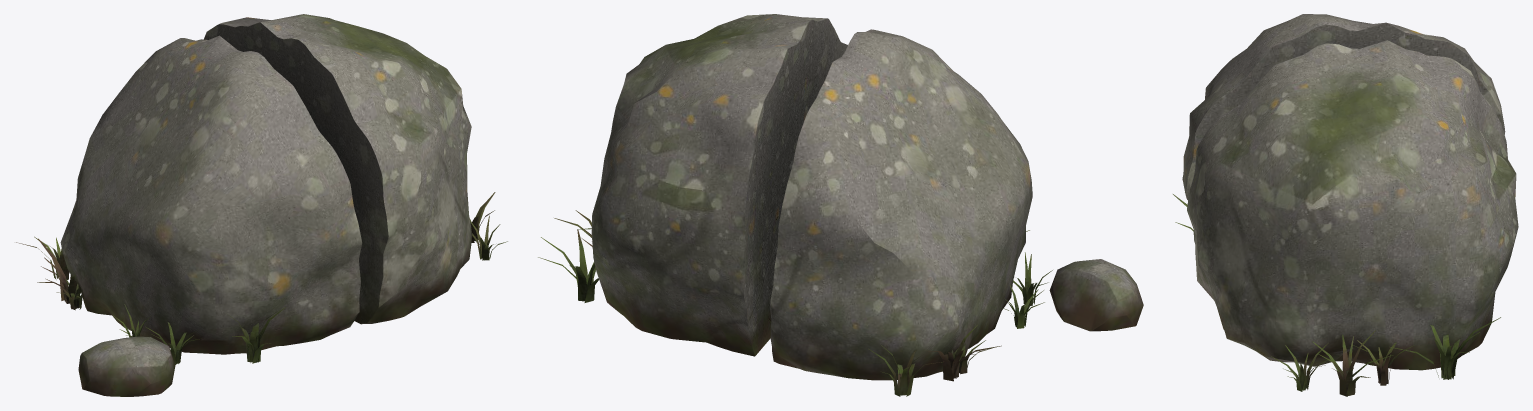
Rendered from boulder_b.glb.
3 renders of one model, left to right at view 1: azimuth 30°, elevation 25°; view 2: azimuth 150°, elevation 25°; view 3: azimuth 270°, elevation 25°, orthographic. The views are drawn at different scales.
Parts seen in each view (by area): view 1: boulder_b_LOD0; view 2: boulder_b_LOD0; view 3: boulder_b_LOD0.
Part boxes in pixels (x1,y1,x2,y2): boulder_b_LOD0: [16, 14, 507, 396]; boulder_b_LOD0: [538, 14, 1143, 396]; boulder_b_LOD0: [1173, 14, 1518, 396].
Size of what is drawn, in the model's own units: 3.19 by 1.61 by 1.95.
1 material, 1 textured.
